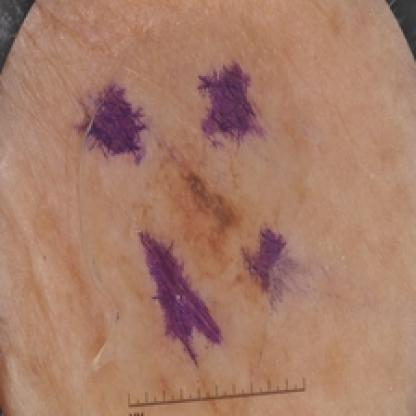Skin_Cancer-Malignant: (171, 158, 243, 263)
